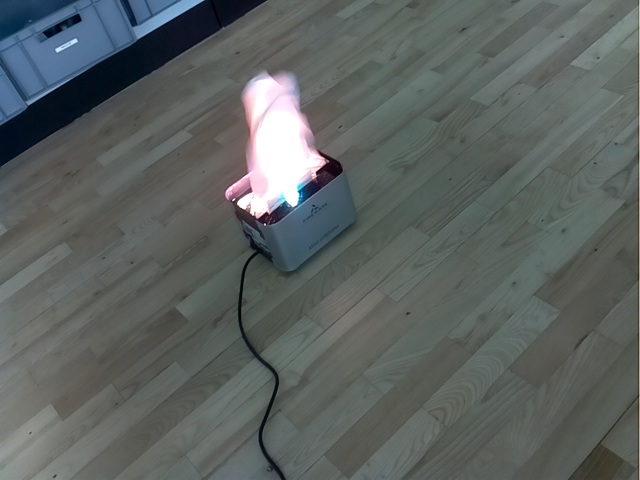fire: (240, 69, 327, 220)
